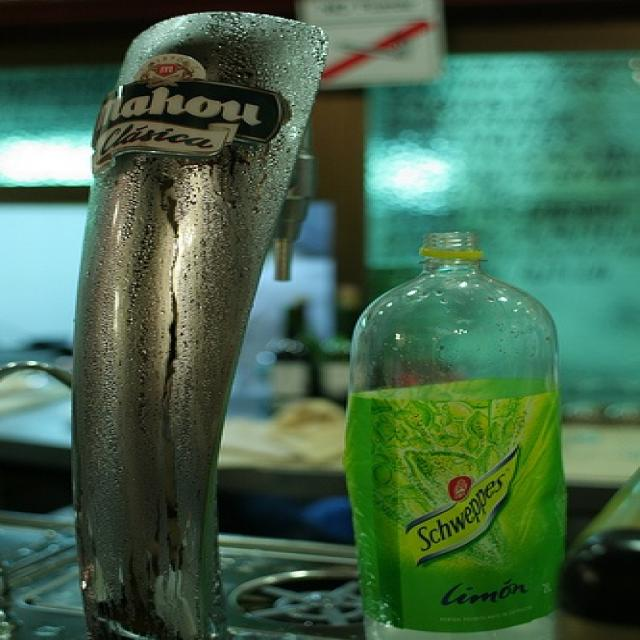bottle: (348, 233, 569, 639)
